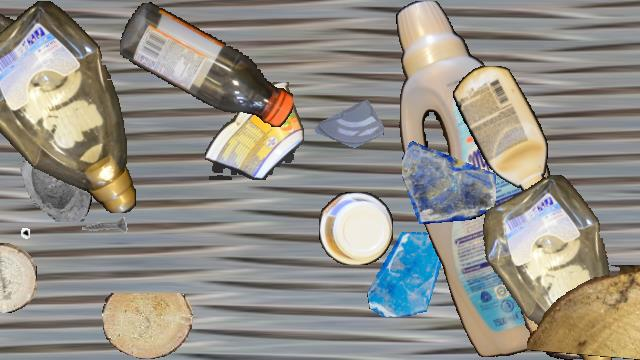glass: (402, 130, 496, 224), (5, 132, 95, 222), (365, 232, 449, 316), (315, 93, 383, 161)
metal: (517, 150, 579, 212), (77, 204, 129, 256), (0, 199, 30, 249)
plastic: (394, 1, 598, 357), (0, 1, 137, 213), (478, 175, 624, 359), (120, 1, 292, 129), (453, 66, 547, 194), (205, 82, 303, 180), (319, 192, 393, 264), (0, 1, 34, 71)
wood: (527, 265, 640, 359), (519, 253, 595, 359), (102, 293, 192, 359), (0, 243, 37, 313)
